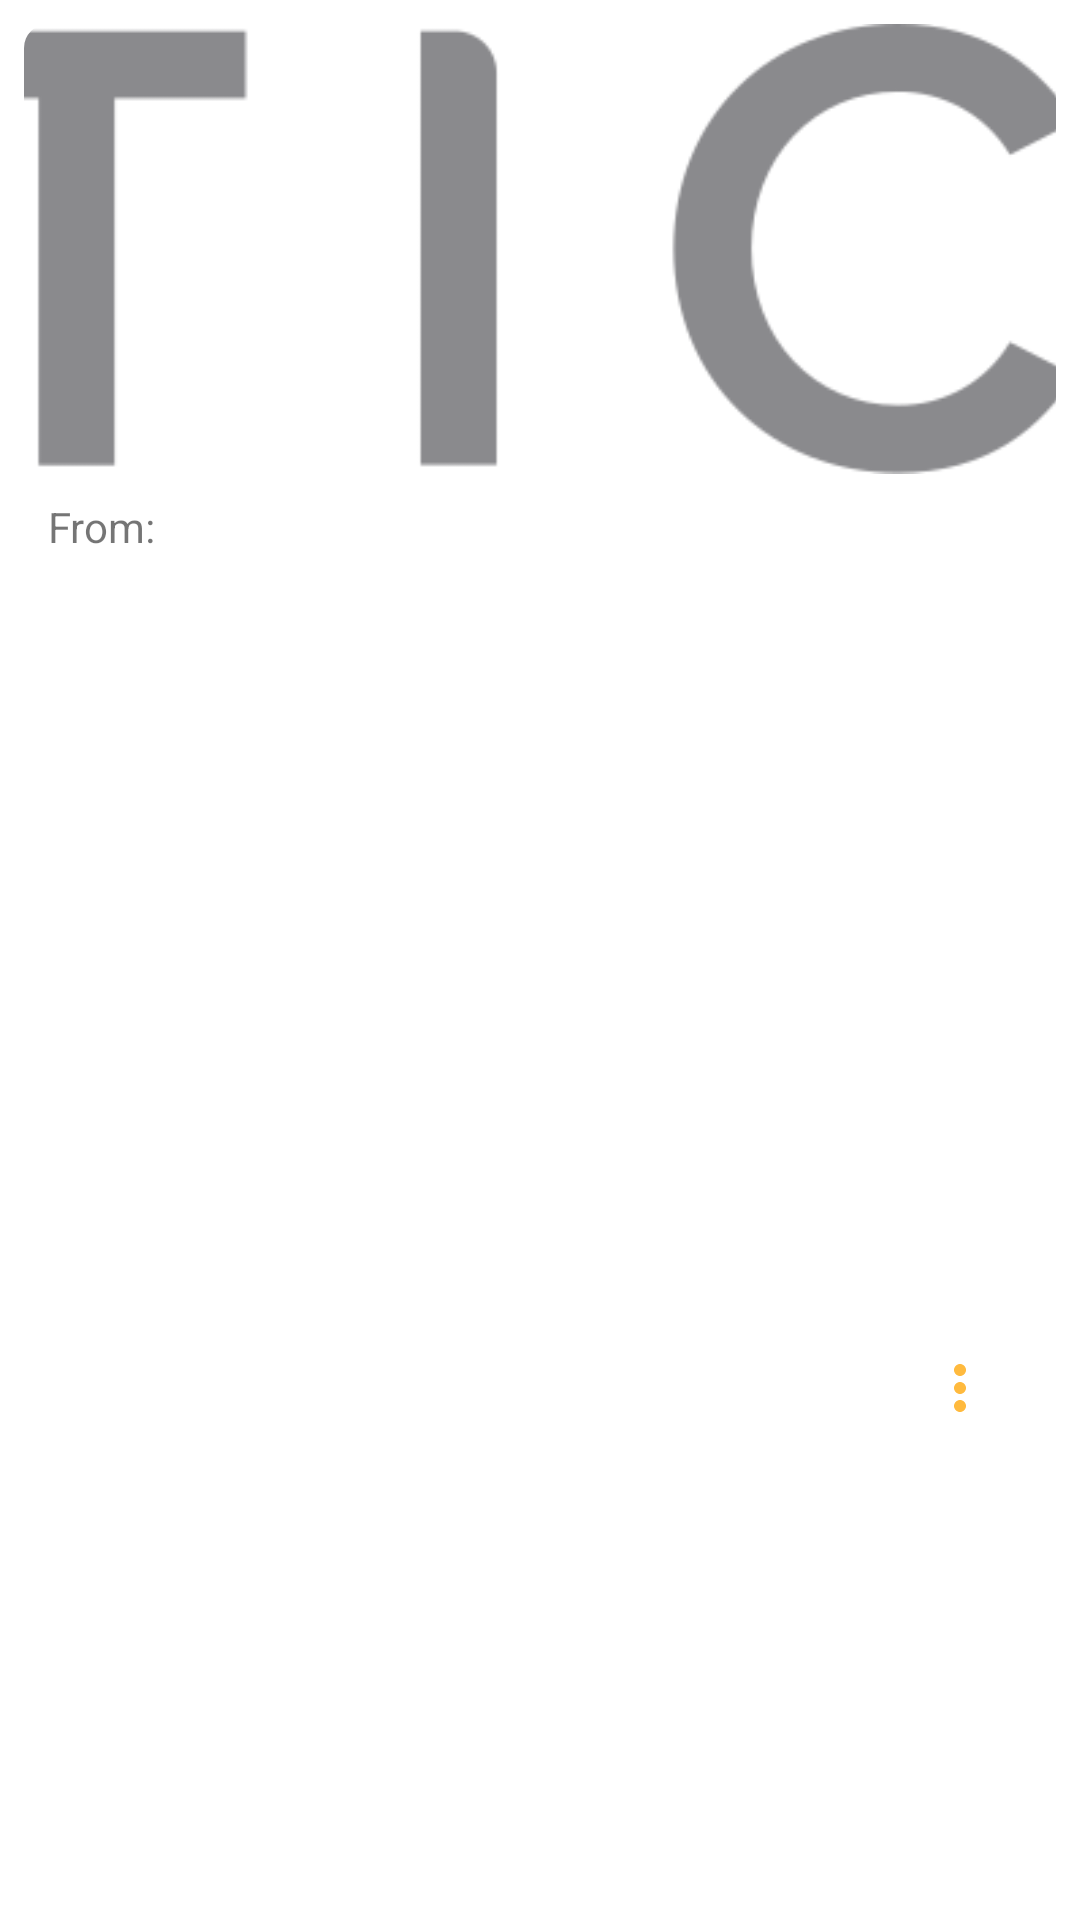

Icon click points for this 1080 × 1920 phone screenshot, format [x,y]:
more vert: [960,1388]
